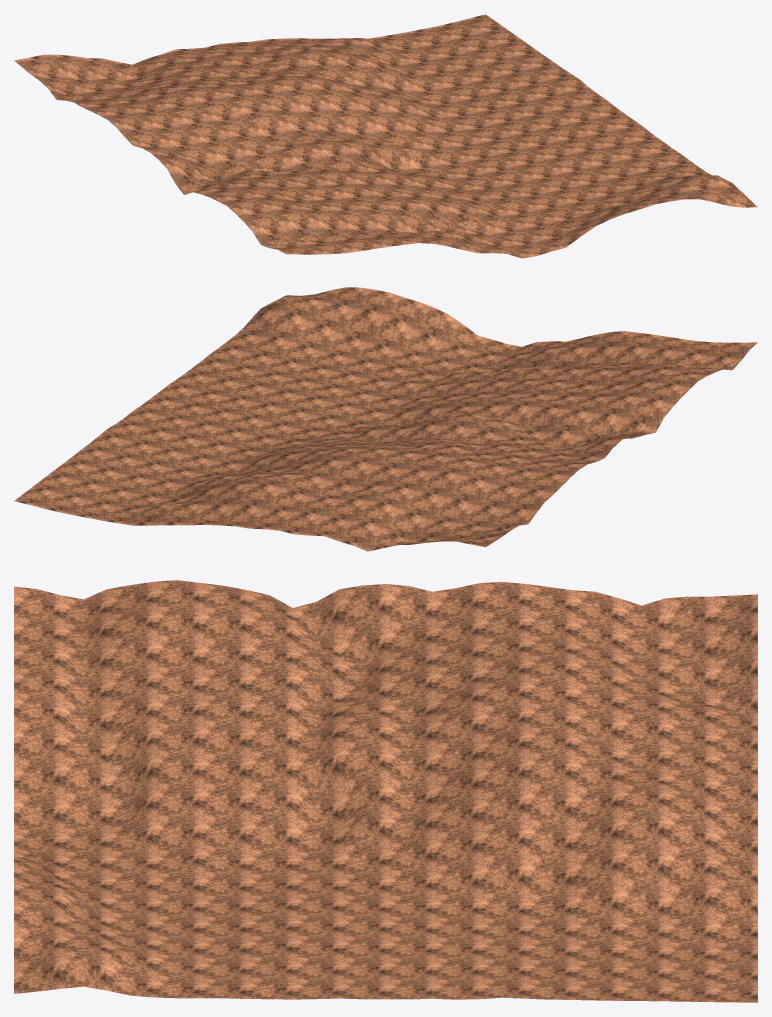
The model's file is terrain_08_00.dae.
The picture shows the model from 3 angles, top to bottom: view 1: azimuth 30°, elevation 25°; view 2: azimuth 150°, elevation 25°; view 3: azimuth 270°, elevation 25°; orthographic projection. The views are drawn at different scales.
Parts seen in each view (by area): view 1: terrain_08_00-node; view 2: terrain_08_00-node; view 3: terrain_08_00-node.
Part boxes in pixels (box(x1,y1,x2,y2)): terrain_08_00-node: box(14, 14, 757, 258); terrain_08_00-node: box(14, 287, 757, 551); terrain_08_00-node: box(14, 580, 757, 1002).
Bounding box in the file's own units: 128 × 128 × 20.62.
1 material, 1 textured.
